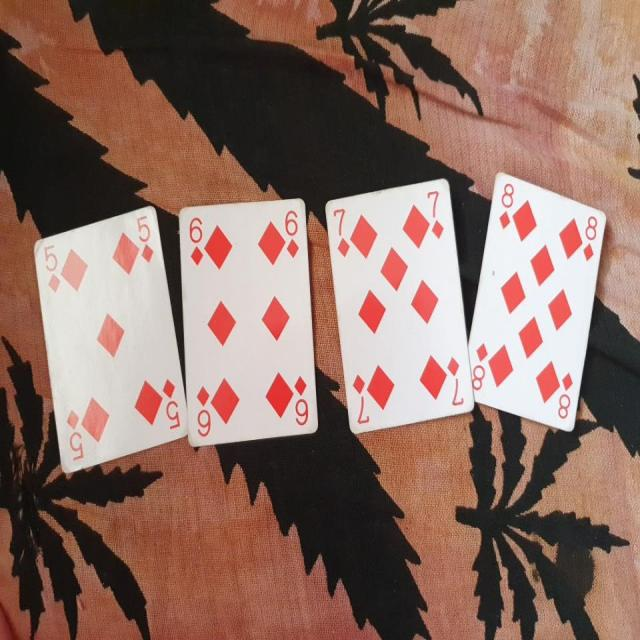5 Diamonds: (27, 202, 190, 474)
6 Diamonds: (178, 188, 319, 449)
7 Diamonds: (322, 174, 474, 435)
8 Diamonds: (468, 171, 607, 433)
